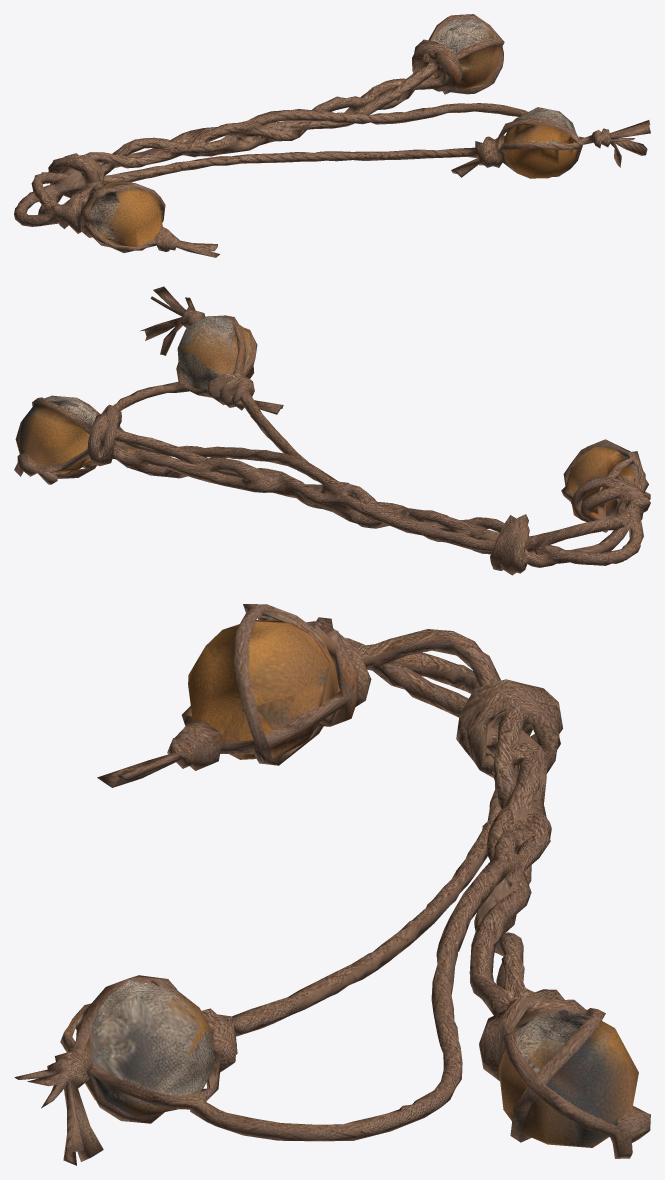
File: SM_Bola.fbx
3 renders of one model, top to bottom at view 1: azimuth 30°, elevation 25°; view 2: azimuth 150°, elevation 25°; view 3: azimuth 270°, elevation 25°, orthographic. The views are drawn at different scales.
Visible parts, largest first — view 1: Bola; view 2: Bola; view 3: Bola.
Part boxes in pixels (bbox=[...]): Bola: bbox=[14, 14, 650, 257]; Bola: bbox=[14, 286, 650, 575]; Bola: bbox=[14, 604, 650, 1165].
Size of the model in its own units: 85 by 10.76 by 45.25.
Materials: 1 (1 with a texture image).
